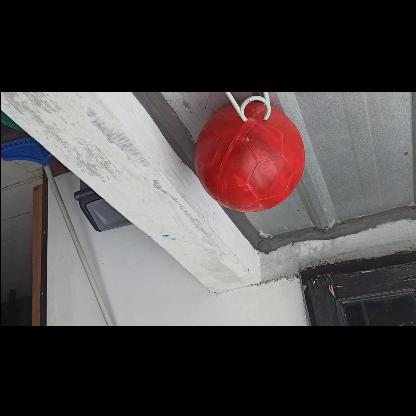red_ball: (195, 102, 304, 212)
